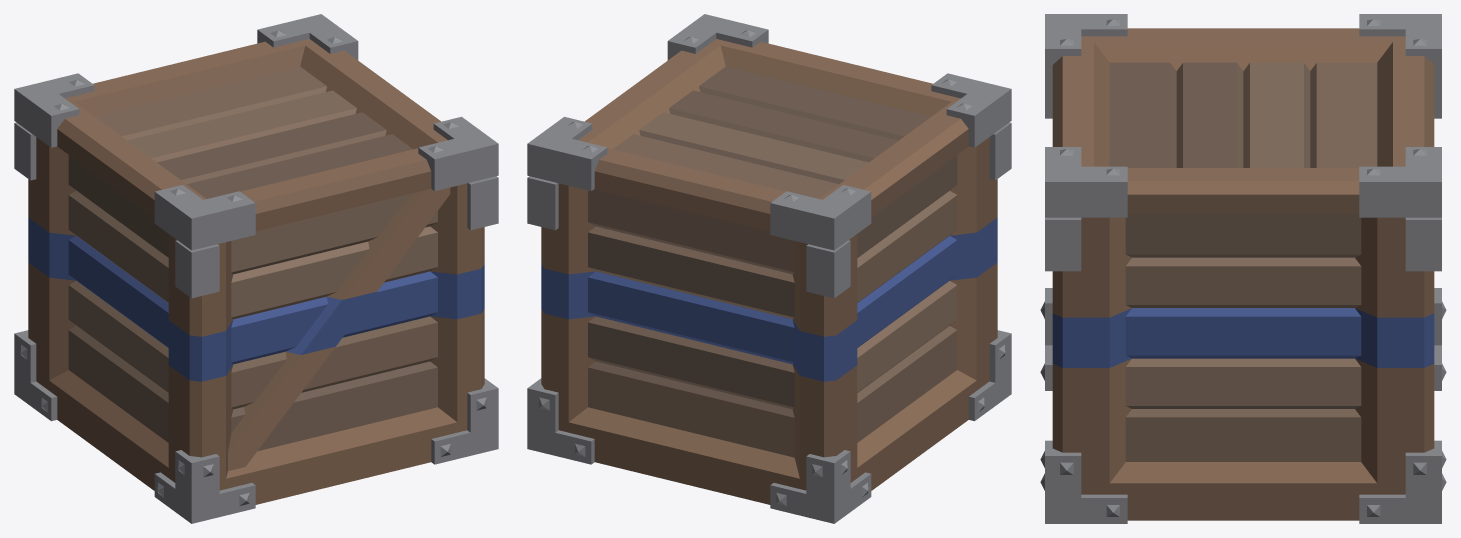
The model's file is loot-crate-23dd3b.glb.
The picture shows the model from 3 angles, left to right: view 1: azimuth 30°, elevation 25°; view 2: azimuth 150°, elevation 25°; view 3: azimuth 270°, elevation 25°; orthographic projection. The views are drawn at different scales.
Visible parts, largest first — view 1: crate-body, lid-mesh, lid-irons, crate-irons; view 2: crate-body, lid-mesh, lid-irons, crate-irons; view 3: crate-body, lid-mesh, lid-irons, crate-irons.
Part boxes in pixels (bbox=[...]): crate-body: bbox=[28, 137, 484, 504]; lid-mesh: bbox=[57, 39, 447, 231]; lid-irons: bbox=[14, 14, 498, 250]; crate-irons: bbox=[14, 122, 498, 523]; crate-body: bbox=[541, 137, 997, 504]; lid-mesh: bbox=[578, 39, 968, 231]; lid-irons: bbox=[527, 14, 1011, 250]; crate-irons: bbox=[527, 122, 1011, 523]; crate-body: bbox=[1052, 214, 1434, 520]; lid-mesh: bbox=[1052, 28, 1434, 214]; lid-irons: bbox=[1045, 14, 1441, 217]; crate-irons: bbox=[1040, 84, 1446, 523].
Size of the model in its own units: 0.638 by 0.6 by 0.638.
